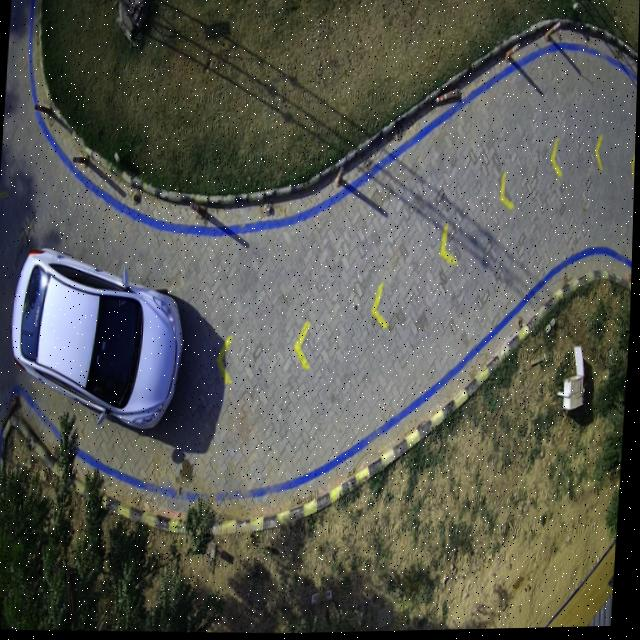car: (13, 248, 185, 432)
